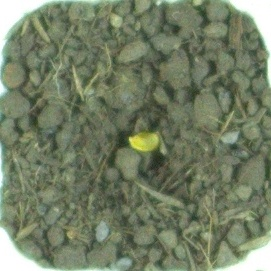pepper seed: (46, 51, 209, 206)
